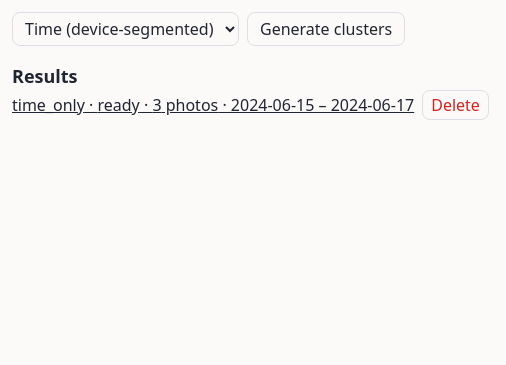
Test: ClusterView › surfaces a create-post failure in the error banner
Click the button with test id "result-row". click: click(213, 105)
box: [12, 93, 414, 117]
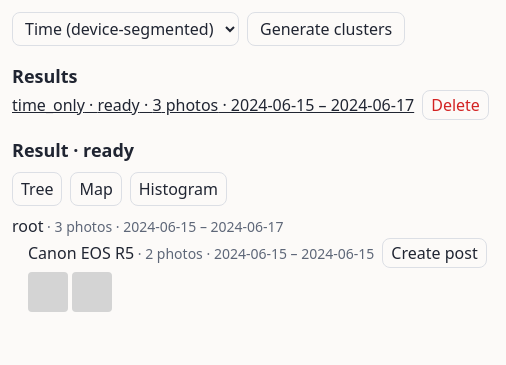
Click the button "Create post". click: click(434, 253)
box: [382, 238, 487, 268]
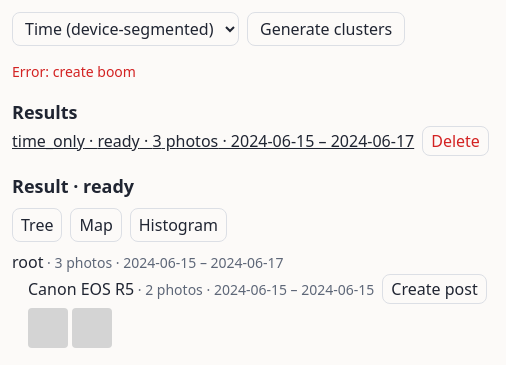
Result: the text "Error: create boom" is shown at [12, 62, 136, 81]
